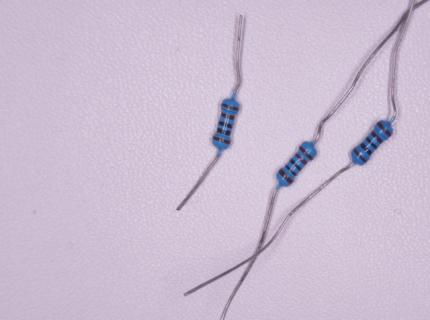Brown band: (370, 130, 384, 144), (221, 112, 235, 121)
